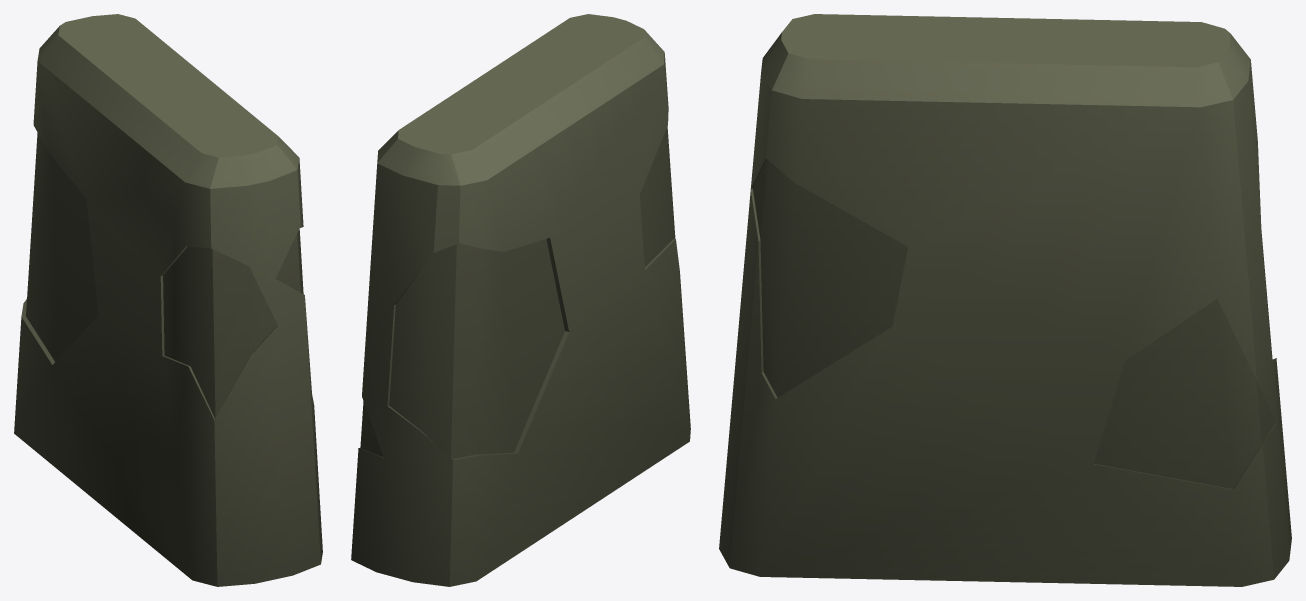
Rendered from StraightBridge1Pillar.fbx.
The picture shows the model from 3 angles, left to right: view 1: azimuth 30°, elevation 25°; view 2: azimuth 150°, elevation 25°; view 3: azimuth 270°, elevation 25°; orthographic projection. The views are drawn at different scales.
Visible parts, largest first — view 1: test.002; view 2: test.002; view 3: test.002.
Part boxes in pixels (box(x1,y1,x2,y2)): test.002: box(14, 14, 322, 586); test.002: box(351, 14, 690, 586); test.002: box(719, 14, 1291, 586).
Bounding box in the file's own units: 651 × 1764 × 1821.
